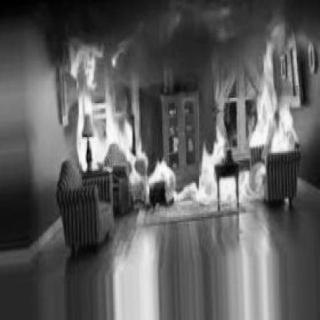Fire: (198, 23, 300, 209), (70, 44, 136, 174), (140, 162, 198, 208)
Smoke: (56, 2, 178, 44)
